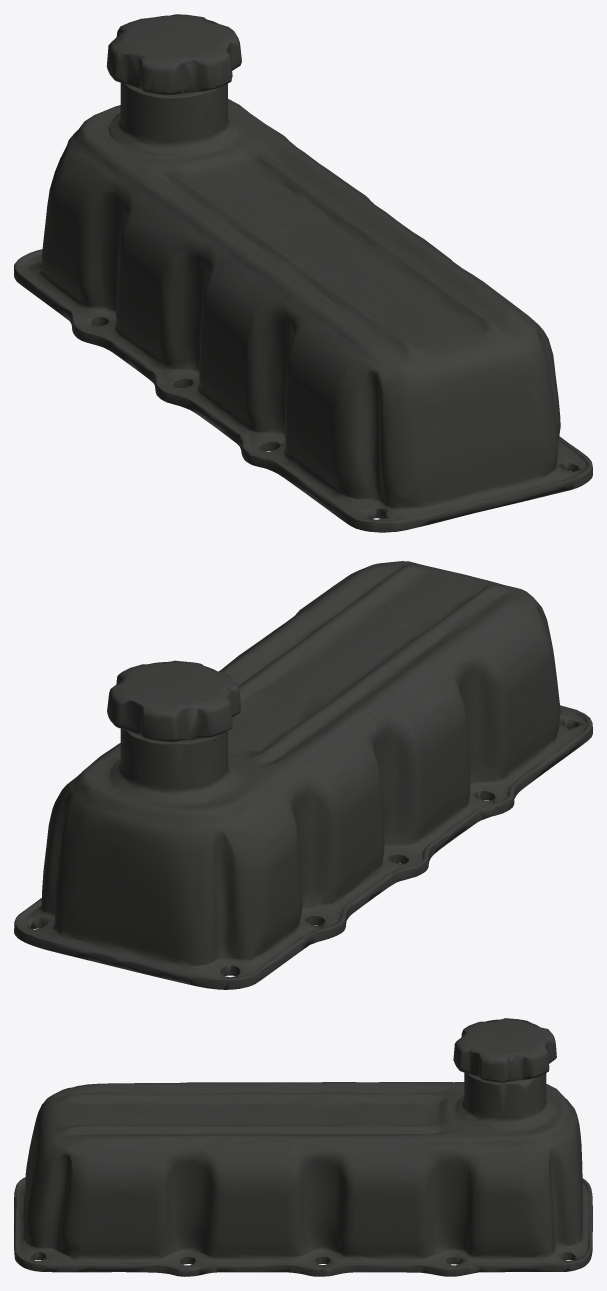
The model's file is rocker-cover.glb.
3 renders of one model, top to bottom at view 1: azimuth 30°, elevation 25°; view 2: azimuth 150°, elevation 25°; view 3: azimuth 270°, elevation 25°, orthographic. The views are drawn at different scales.
Parts seen in each view (by area): view 1: tripo_node_f1dfe635-64b3-49ef-b2f8-a168b0cc7ae2; view 2: tripo_node_f1dfe635-64b3-49ef-b2f8-a168b0cc7ae2; view 3: tripo_node_f1dfe635-64b3-49ef-b2f8-a168b0cc7ae2.
Boxes of the visible parts, x1,y1,x2,y2 form: tripo_node_f1dfe635-64b3-49ef-b2f8-a168b0cc7ae2: (14,14,592,532); tripo_node_f1dfe635-64b3-49ef-b2f8-a168b0cc7ae2: (14,561,592,989); tripo_node_f1dfe635-64b3-49ef-b2f8-a168b0cc7ae2: (14,1018,592,1276).
Size of the model in its own units: 0.4116 by 0.3619 by 1.
Materials: 1 (1 with a texture image).
